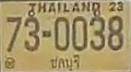0: (54, 16, 69, 50), (72, 15, 86, 50)
3: (23, 16, 39, 51), (89, 16, 104, 50)
7: (6, 16, 21, 51)
8: (107, 15, 122, 50)
CBI: (48, 53, 82, 71)
